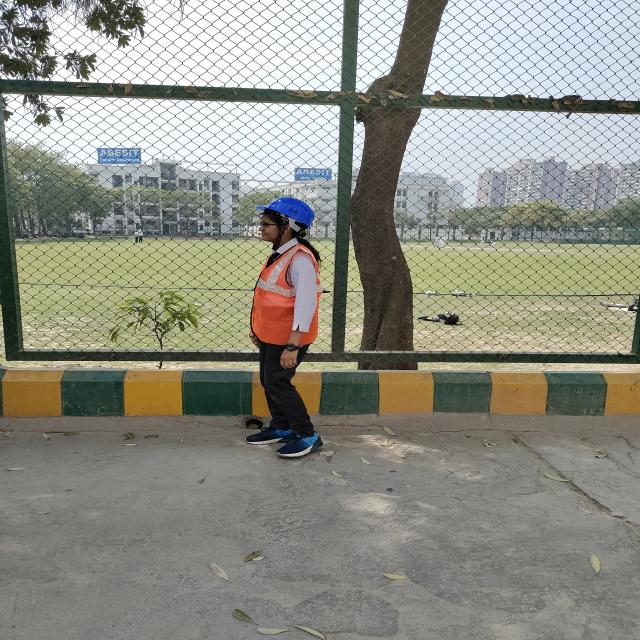safe: (250, 197, 322, 456)
